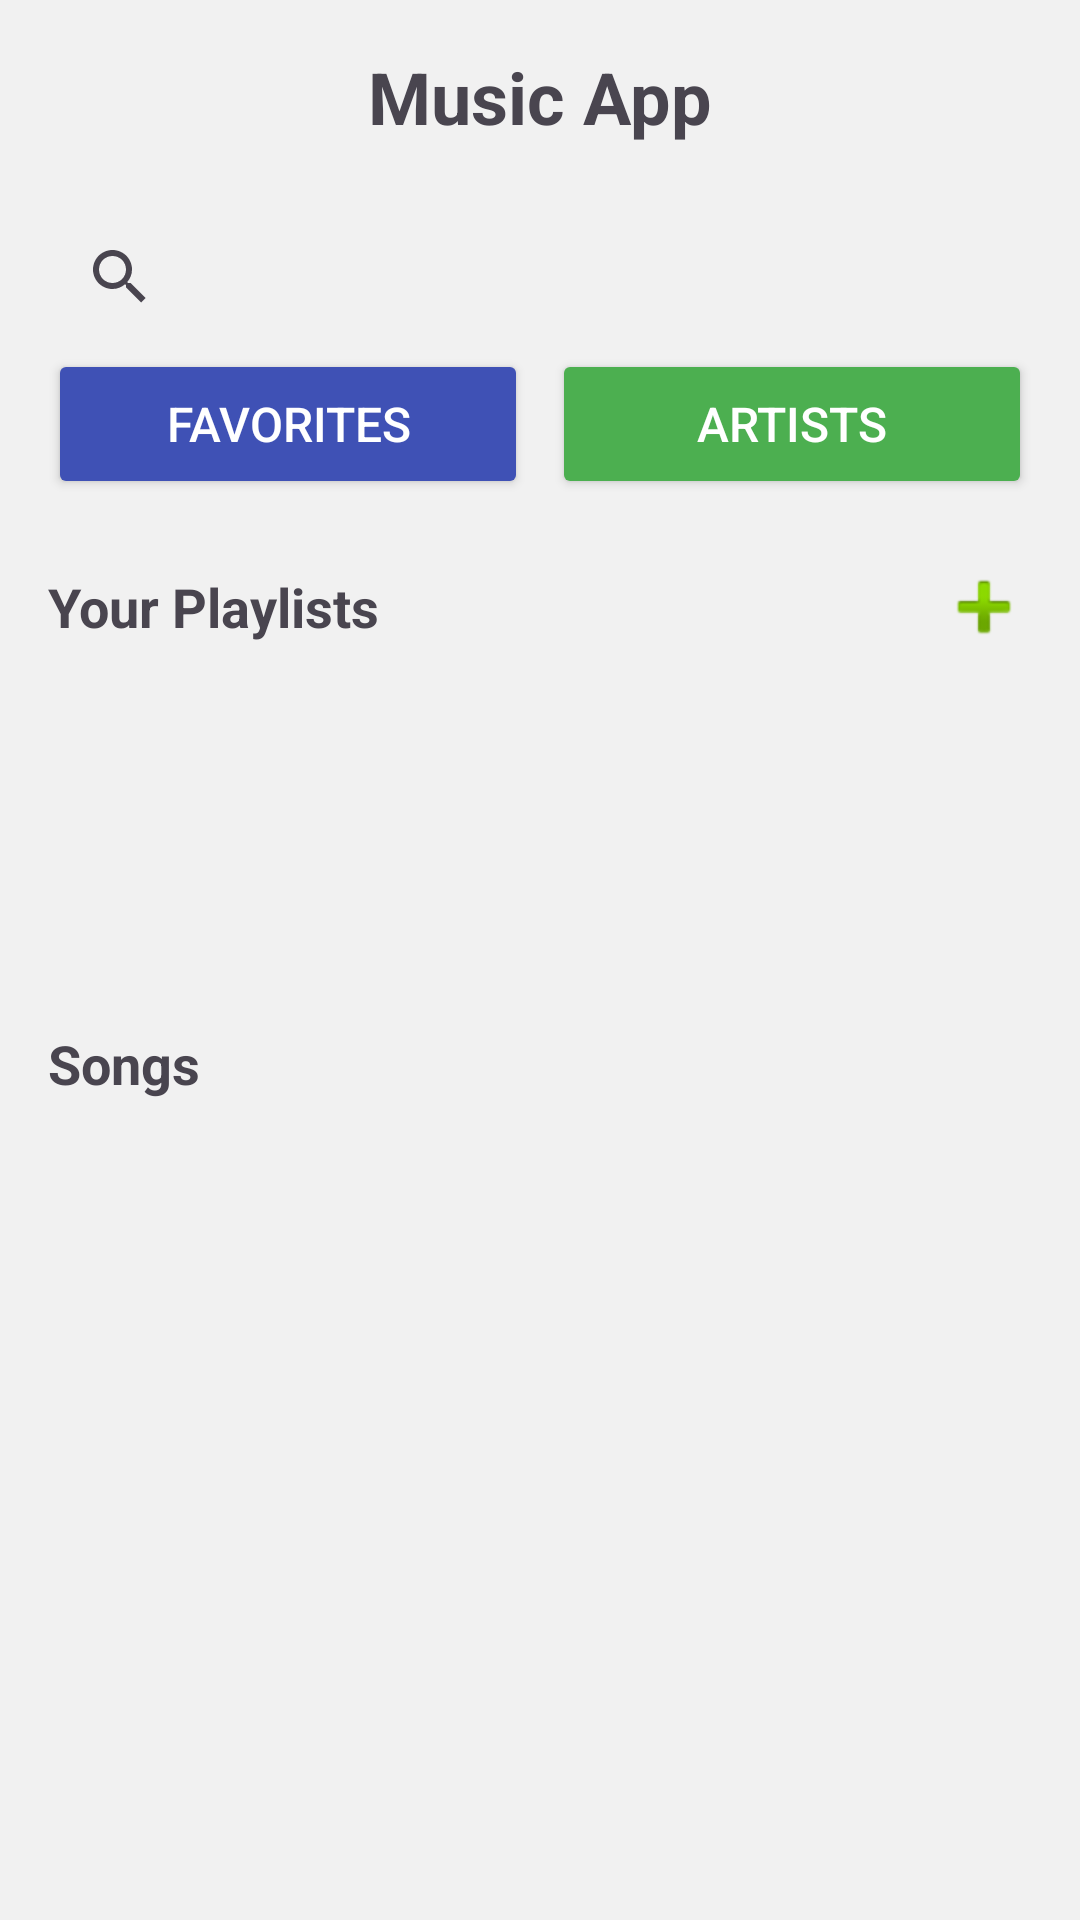

Icons on this 1080×1920 Android screen, each with its box as [x1=x1, y1=y1, x2=x2, y2=y2]:
Add Playlist: [x1=957, y1=580, x2=1011, y2=634]
